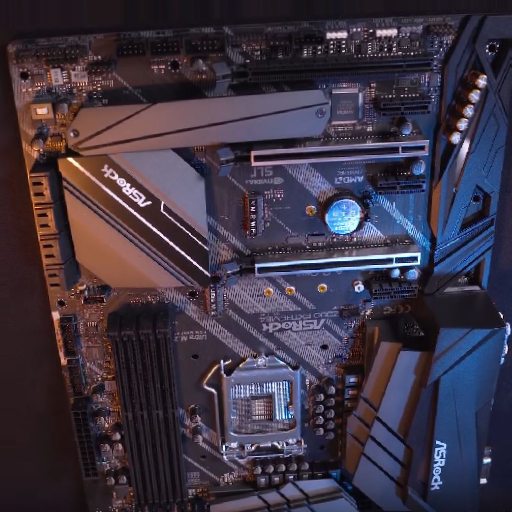CPU: (221, 355, 305, 461)
GPU: (221, 251, 425, 292), (216, 141, 430, 177), (226, 54, 436, 89)
MOTHERBOARD: (9, 15, 501, 505)
RAM: (105, 312, 191, 508)
SSD: (202, 276, 234, 319), (244, 191, 264, 240)
